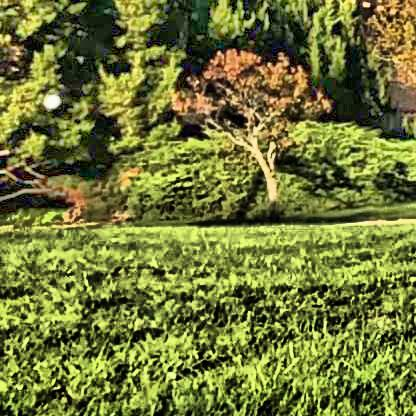golfball: (38, 91, 59, 106)
